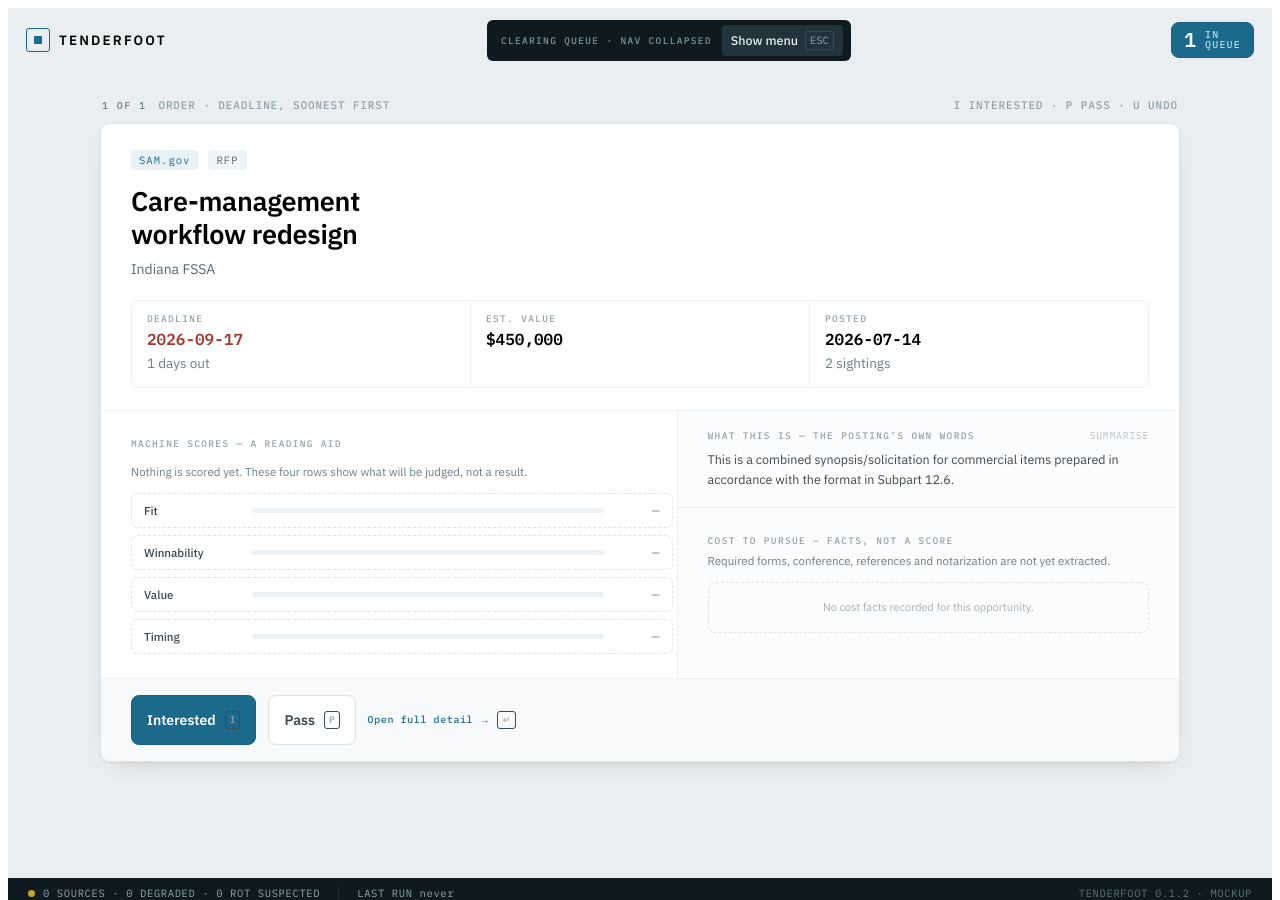
Test case: Pass is blocked until a reason is given
Check: the heading "Care-management workflow redesign" is shown, box [131,183,360,252]
Click the button "Pass P" at (312, 720), box [268,695,356,744]
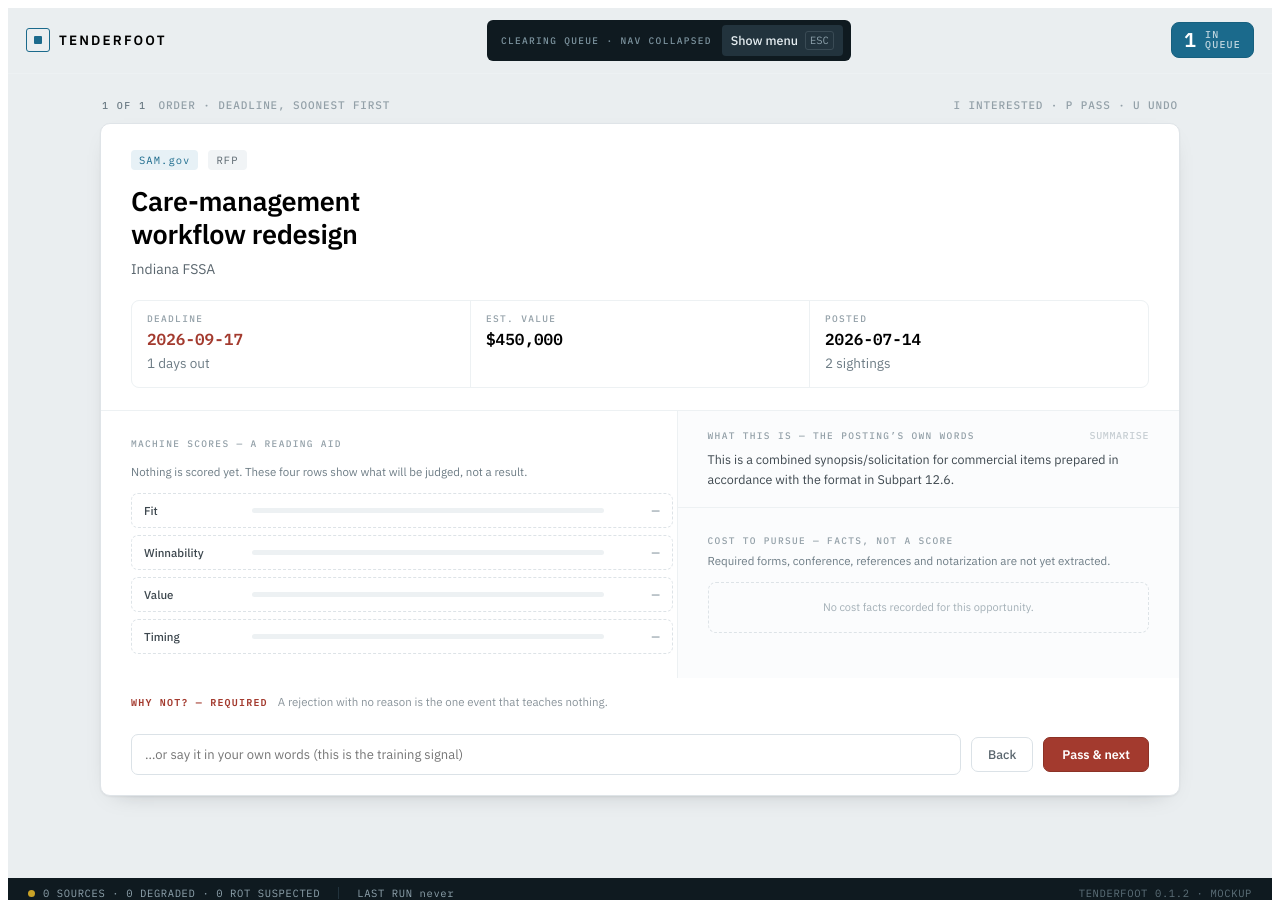
Check: the field named "Reason" is shown, box [131,734,961,775]
Click the button with aria-label "confirm pass" at (1096, 755), box [1043,737,1149,772]
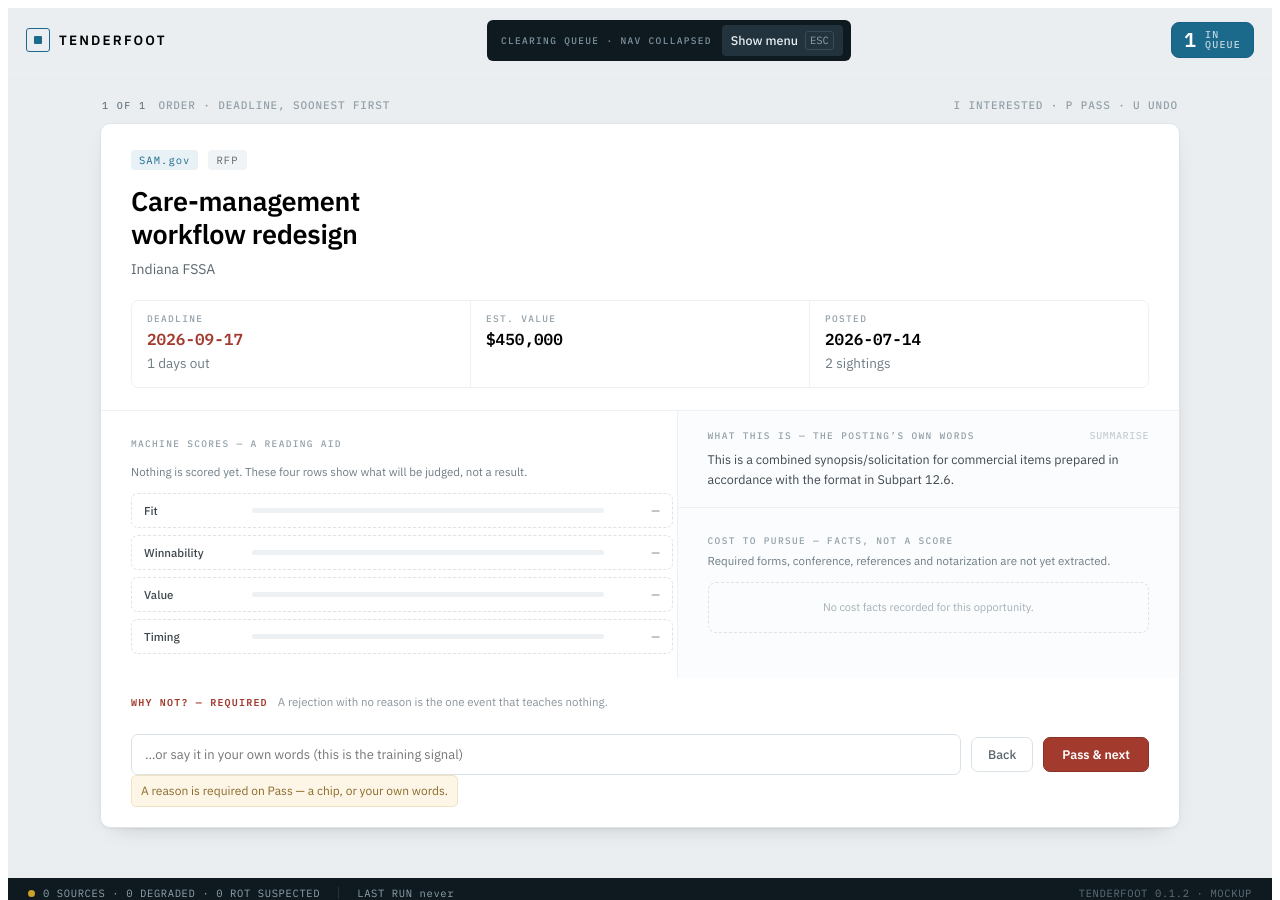
Check: the button with aria-label "confirm pass" reads "Pass & next", box [1043,737,1149,772]
Check: the text "A reason is required on Pass — a chip, or your own words." is shown, box [131,775,458,807]
